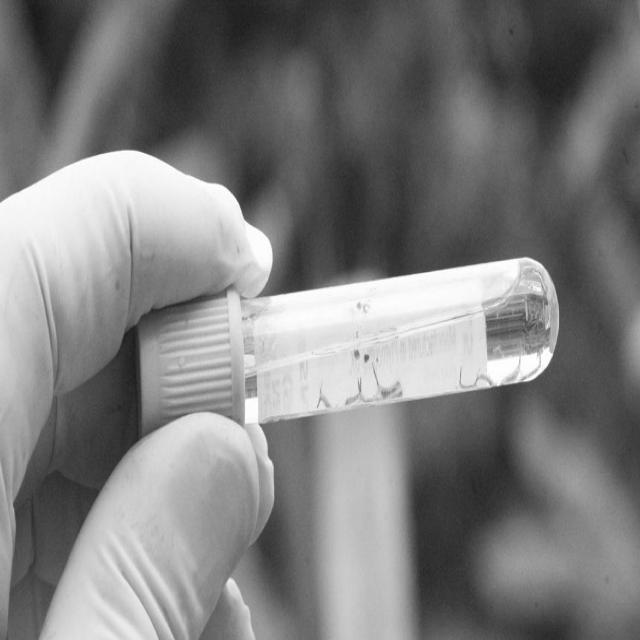larvas: (500, 359, 520, 386), (344, 380, 360, 408), (520, 359, 540, 380), (318, 387, 333, 410), (380, 380, 400, 397), (361, 383, 376, 404), (460, 368, 474, 389), (474, 374, 494, 384)
